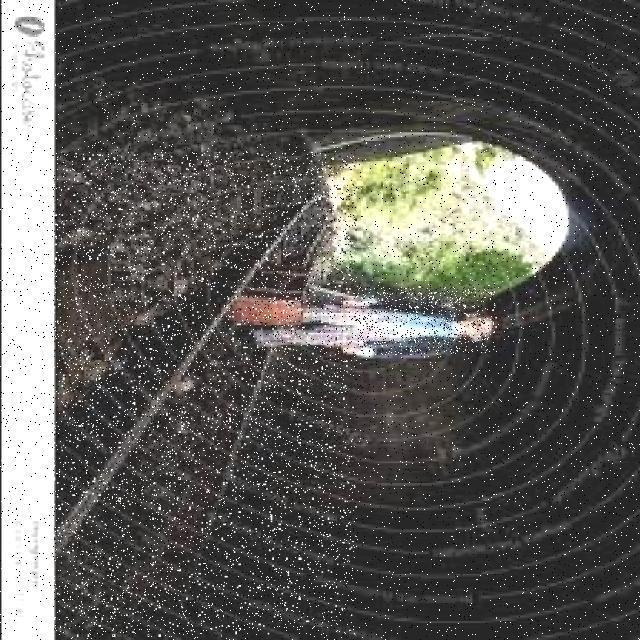danger: (223, 287, 495, 355)
rail: (52, 153, 355, 636)
